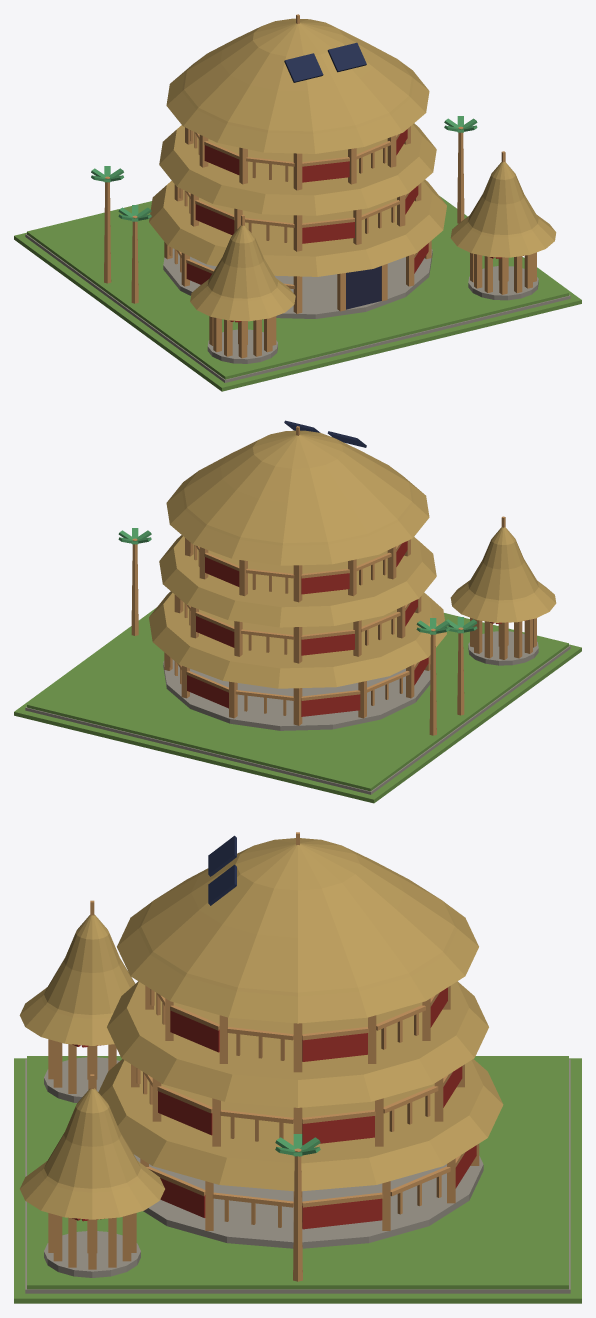
Rendered from house-2x2-3f-fale-a-solar.glb.
3 renders of one model, top to bottom at view 1: azimuth 30°, elevation 25°; view 2: azimuth 150°, elevation 25°; view 3: azimuth 270°, elevation 25°, orthographic. The views are drawn at different scales.
Visible parts, largest first — view 1: house-2x2-3f-fale-a-solar; view 2: house-2x2-3f-fale-a-solar; view 3: house-2x2-3f-fale-a-solar.
Part boxes in pixels (x1,y1,x2,y2): house-2x2-3f-fale-a-solar: (14,14,581,391); house-2x2-3f-fale-a-solar: (14,420,581,803); house-2x2-3f-fale-a-solar: (14,832,581,1303).
Bounding box in the file's own units: 1.99 × 1.36 × 1.99.
1 material, 1 textured.
